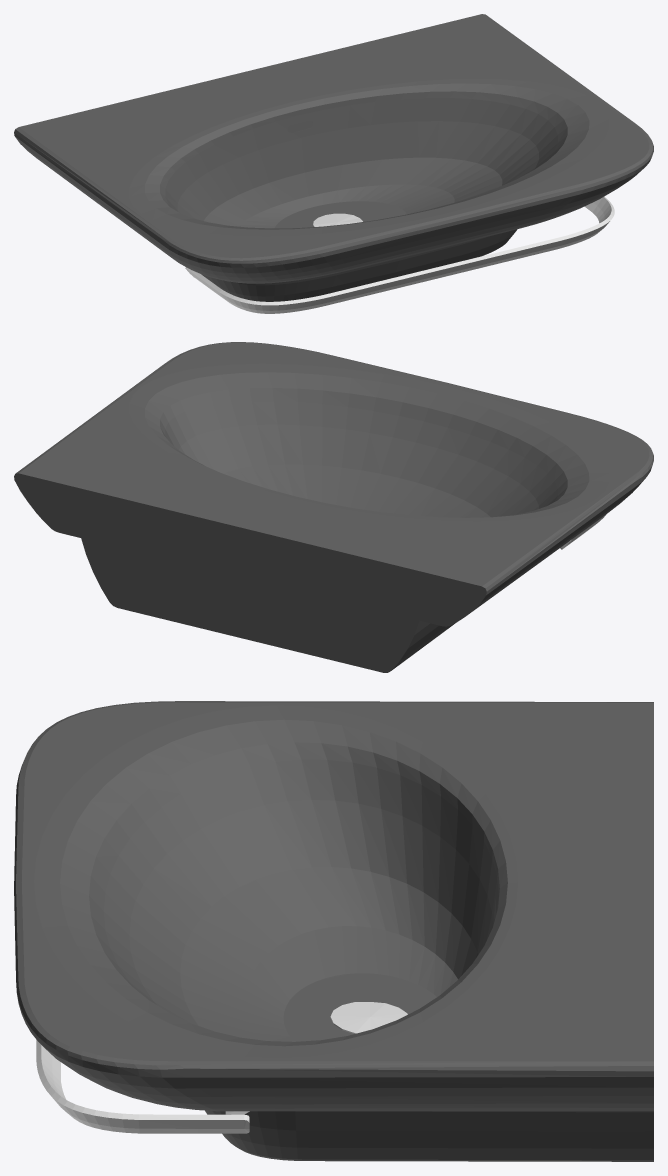
File: AEC_43532.glb
The picture shows the model from 3 angles, top to bottom: view 1: azimuth 30°, elevation 25°; view 2: azimuth 150°, elevation 25°; view 3: azimuth 270°, elevation 25°; orthographic projection. The views are drawn at different scales.
Visible parts, largest first — view 1: 0; view 2: 0; view 3: 0.
Boxes of the visible parts, <box> form: 0: <box>14,14,653,313</box>; 0: <box>14,342,653,672</box>; 0: <box>14,701,653,1161</box>.
Bounding box in the file's own units: 0.65 × 0.145 × 0.48.
Materials: 1 (1 with a texture image).
